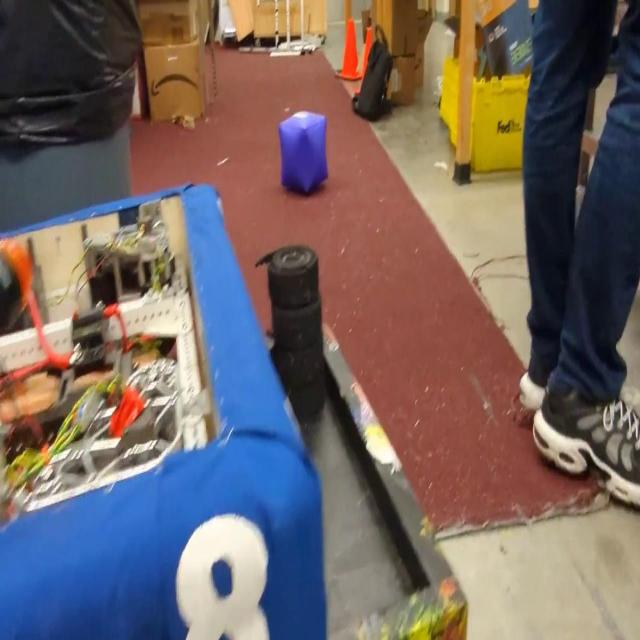frc_cube: (278, 110, 328, 198)
